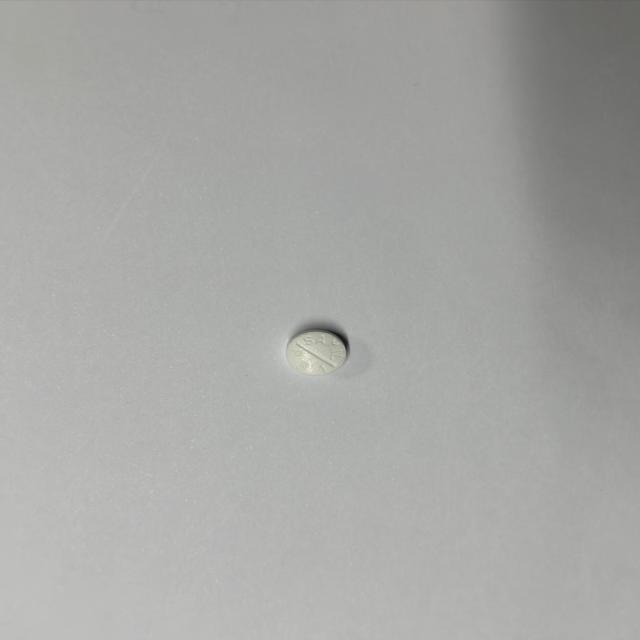Piller: (287, 330, 347, 375)
